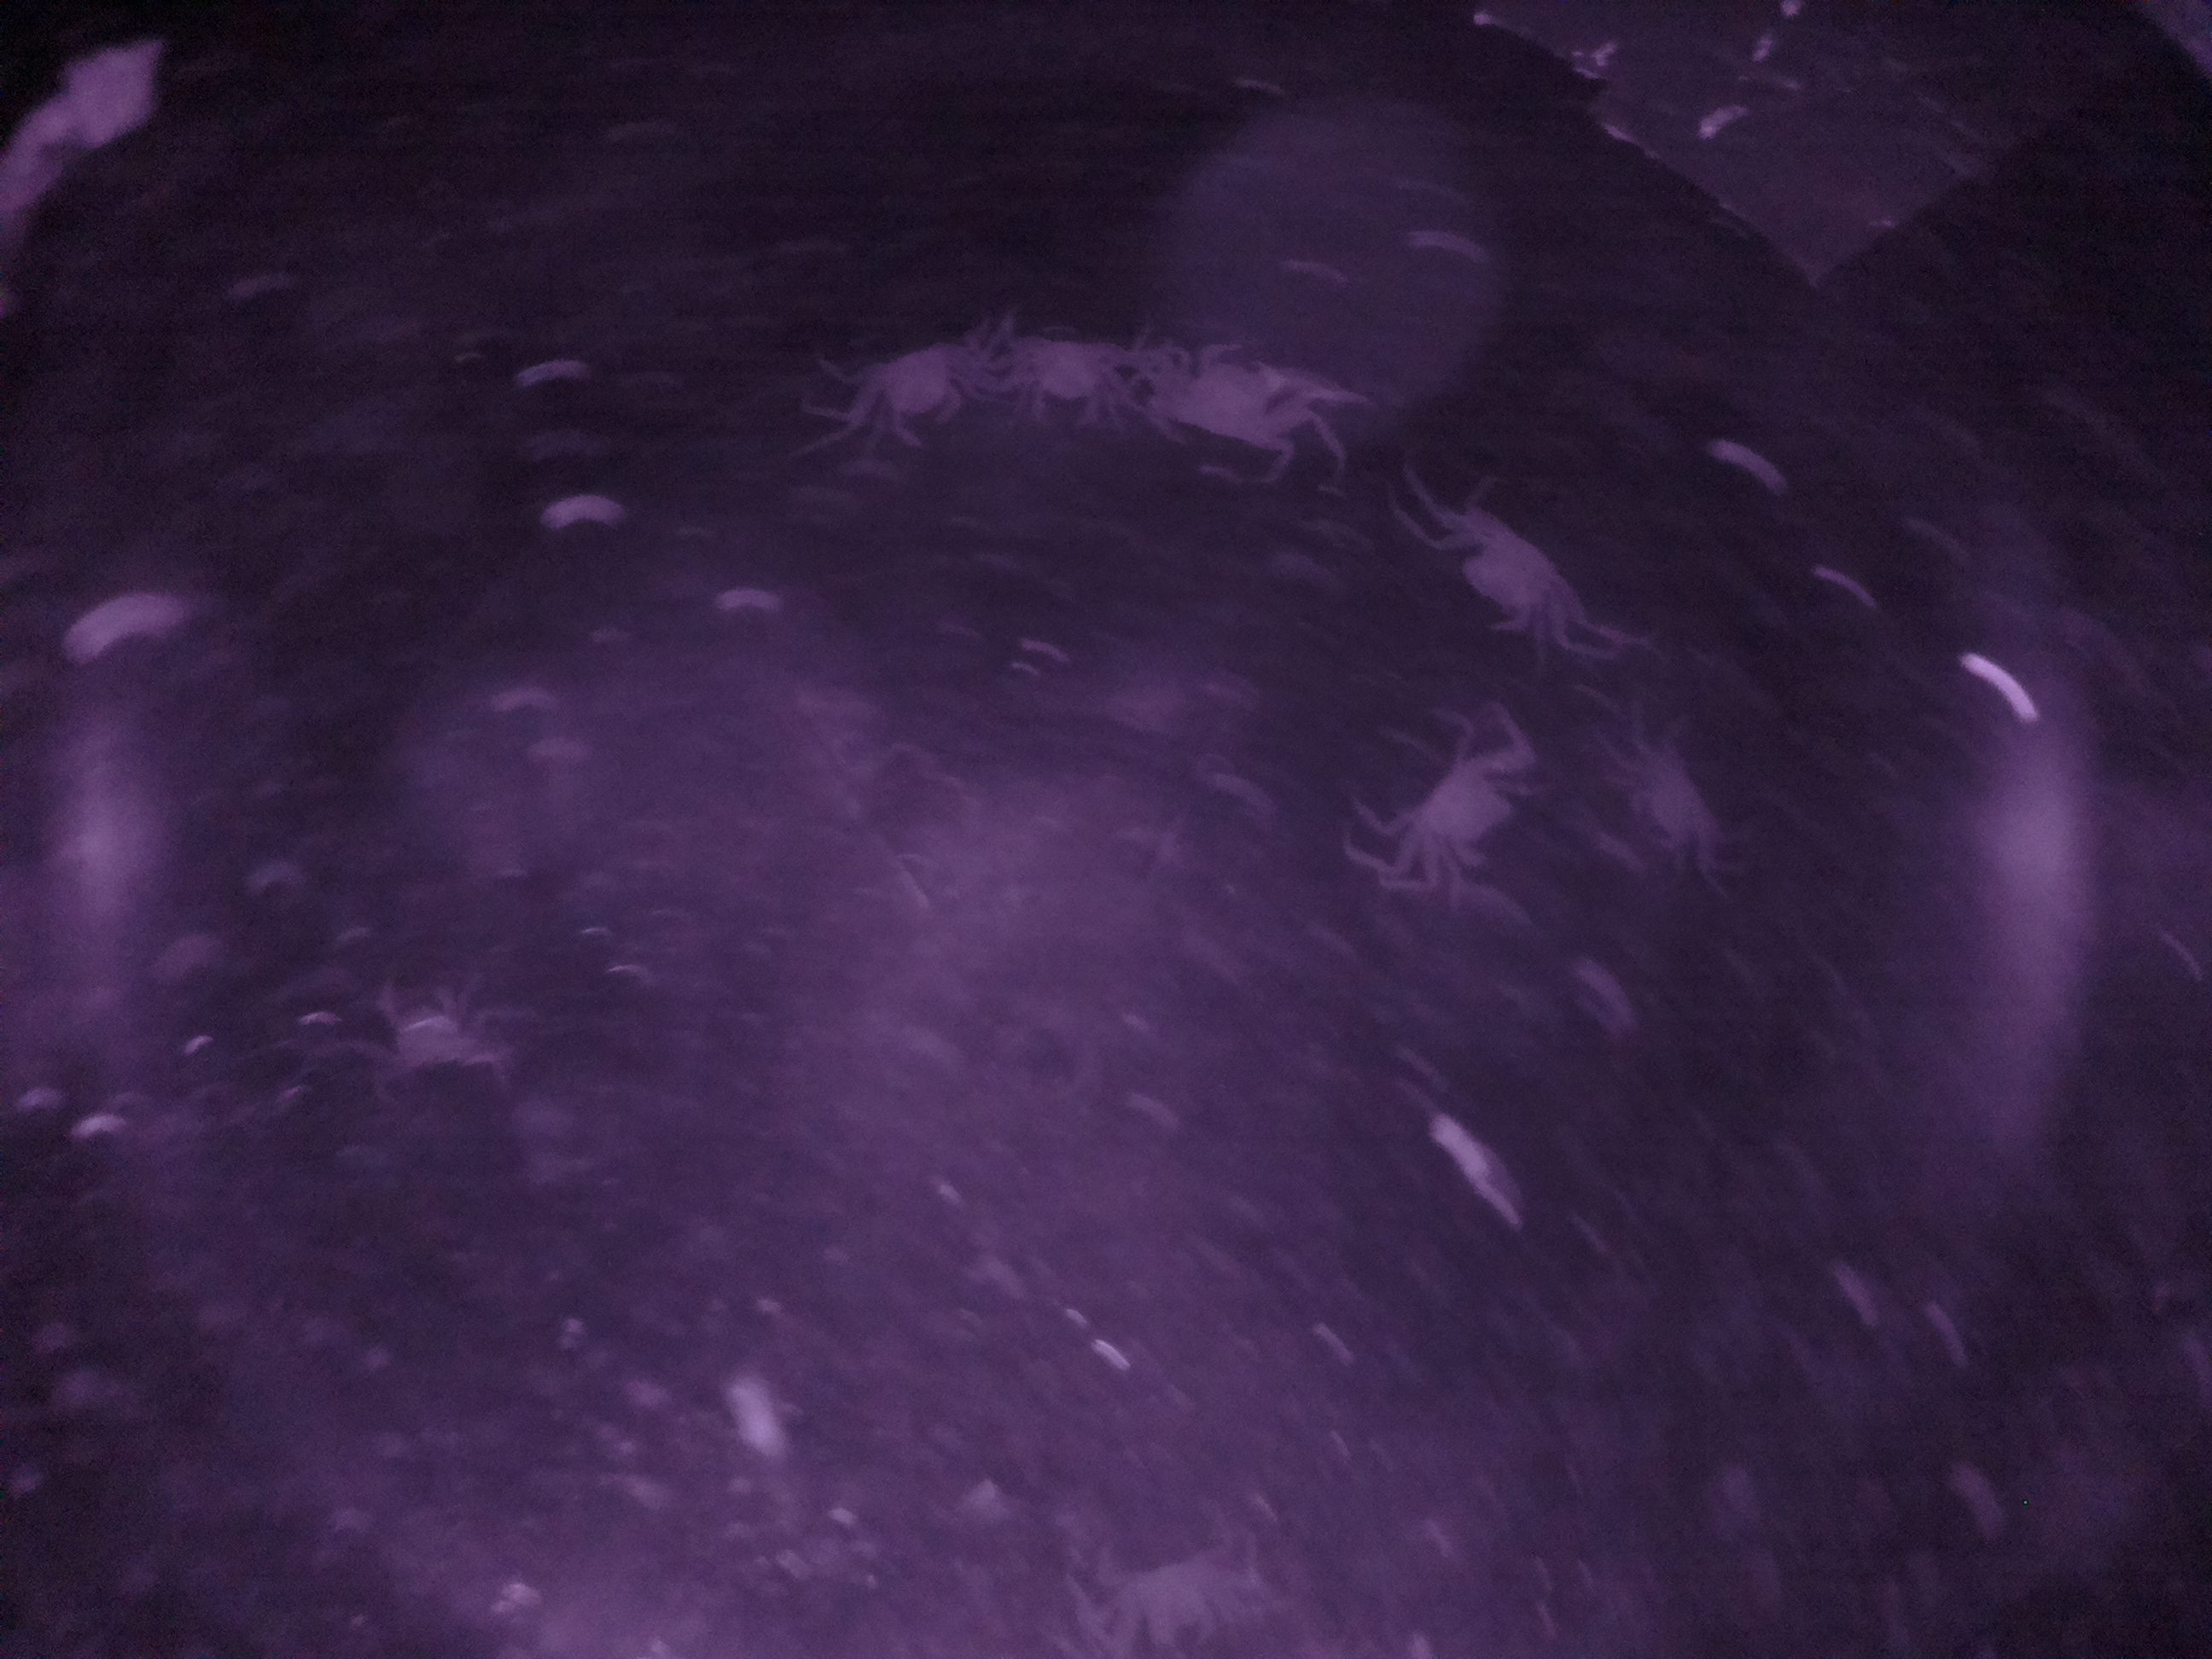Crab: (1362, 713, 1575, 918)
